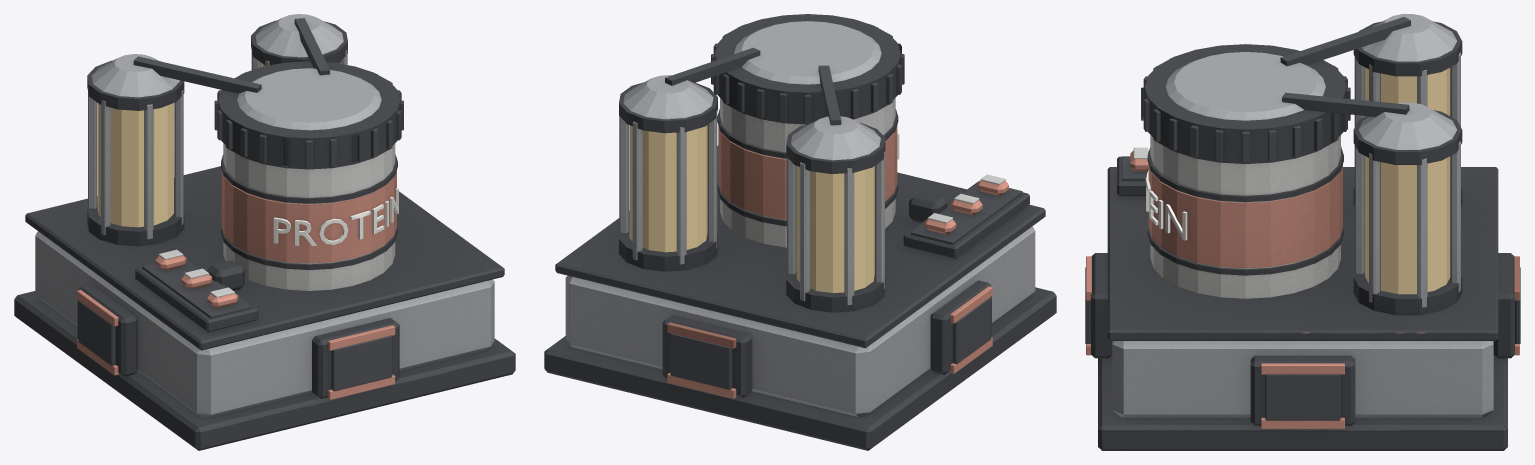
Rendered from SM_ProteinVat.fbx.
3 views of the same model, side by side, from view 1: azimuth 30°, elevation 25°; view 2: azimuth 150°, elevation 25°; view 3: azimuth 270°, elevation 25° (orthographic). The views are drawn at different scales.
Parts seen in each view (by area): view 1: SMN_ProteinVat, Culture, Emblem_ProteinVat; view 2: SMN_ProteinVat, Culture; view 3: SMN_ProteinVat, Culture, Emblem_ProteinVat.
Boxes of the visible parts, bbox=[...] form: SMN_ProteinVat: bbox=[14, 14, 515, 450]; Culture: bbox=[97, 63, 337, 227]; Emblem_ProteinVat: bbox=[273, 188, 398, 246]; SMN_ProteinVat: bbox=[544, 14, 1056, 450]; Culture: bbox=[629, 125, 874, 292]; SMN_ProteinVat: bbox=[1085, 14, 1520, 450]; Culture: bbox=[1365, 67, 1450, 294]; Emblem_ProteinVat: bbox=[1145, 169, 1187, 240].
Bounding box in the file's own units: 0.914 × 0.7023 × 0.914.
